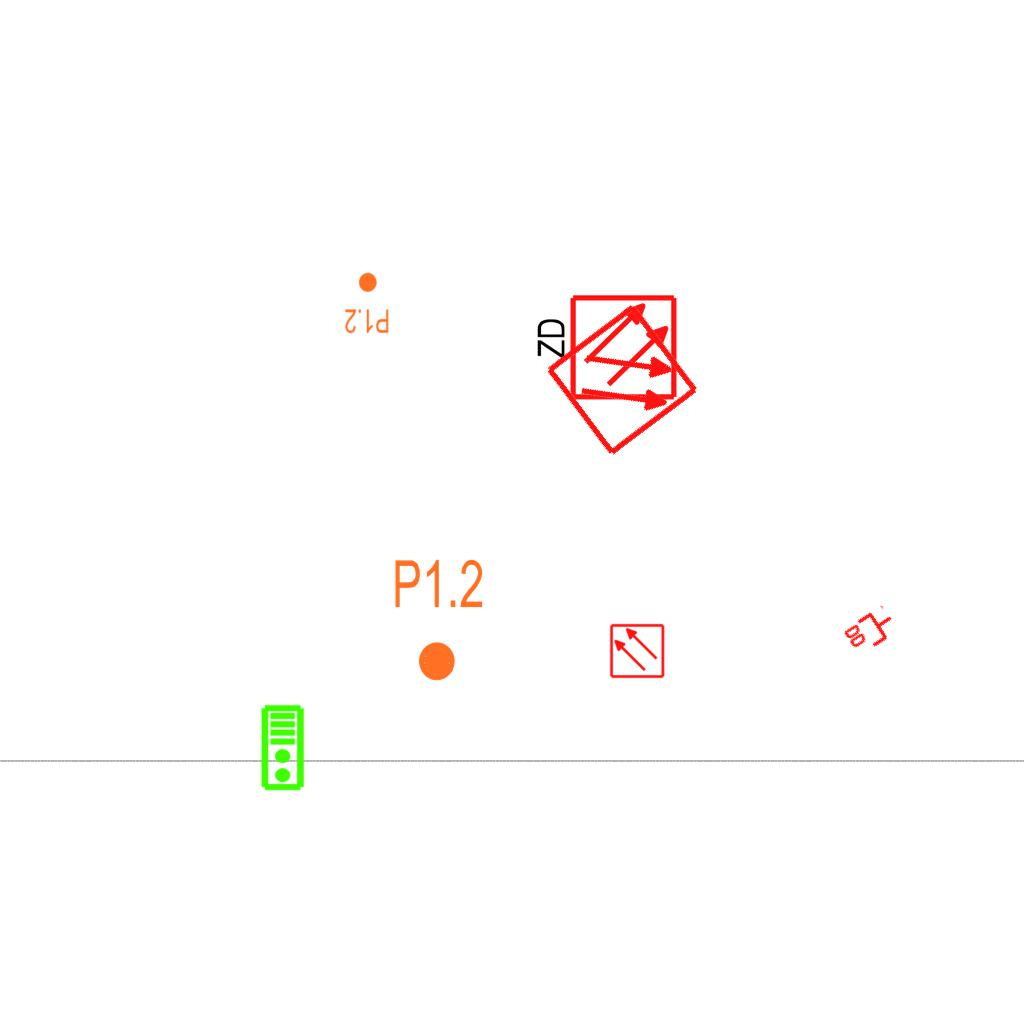Datenanschluss_zweifach: (840, 603, 902, 660)
Downlight_LED_Einbauleuchten_Flur: (392, 556, 485, 684), (344, 271, 390, 335)
Gegensprechanlage_mit_Video: (260, 704, 307, 792)
RMO_Rauchmelder_optischer: (543, 300, 702, 459), (609, 623, 665, 679)
ZD_Melder_in_Zwischendecke_mit_Revisionsoeffnung_mind_40_x_40_cm: (530, 292, 679, 406)
